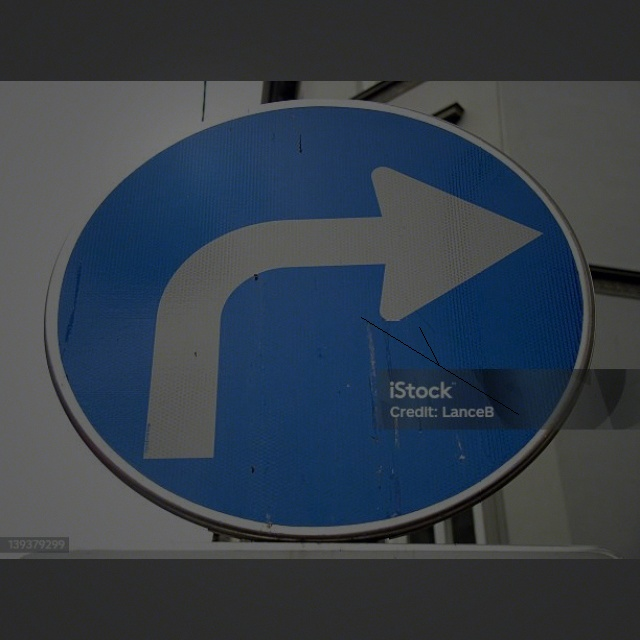Compulsory_Turn_Right_Ahead: (58, 101, 577, 519)
